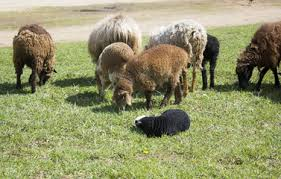sheep: (146, 17, 214, 95), (234, 14, 281, 99), (120, 45, 192, 95), (11, 19, 59, 93), (85, 38, 139, 101), (123, 102, 191, 145), (80, 6, 135, 54)
